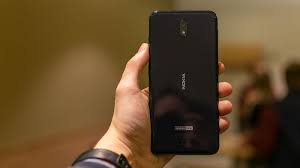nokia: (146, 8, 221, 156)
